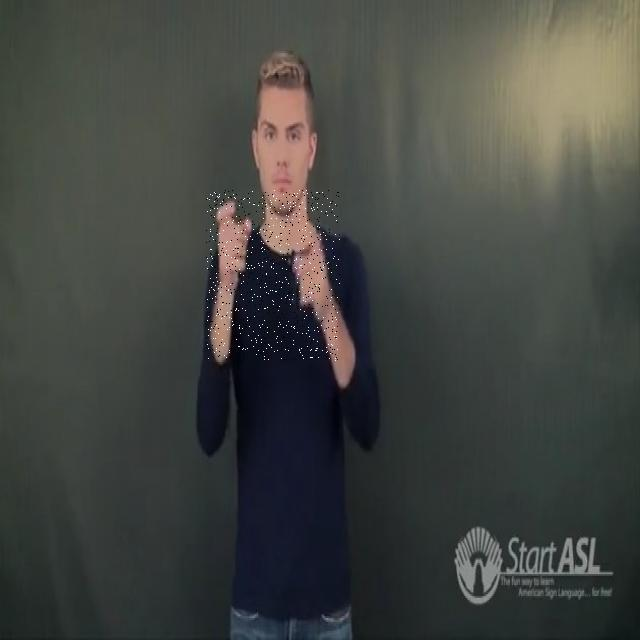manager: (206, 190, 340, 361)
